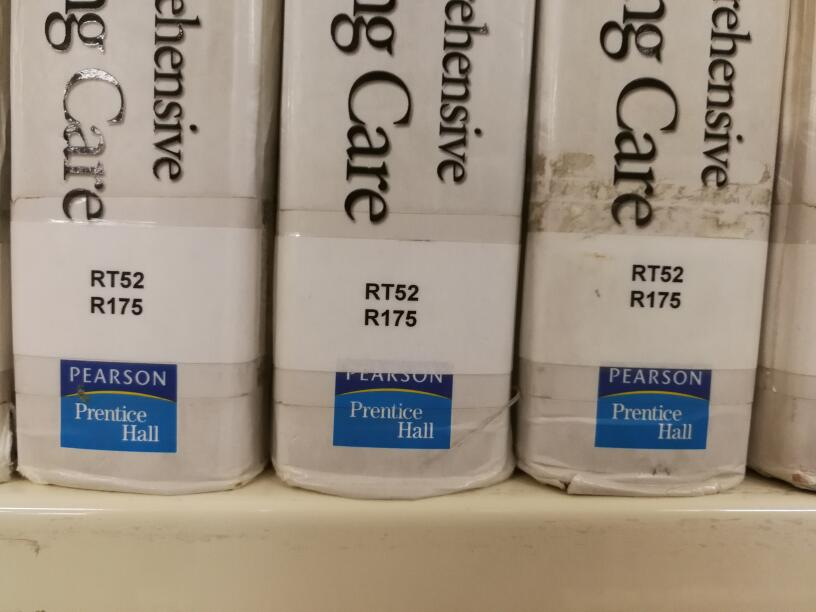booklabel: (361, 279, 421, 329), (88, 267, 147, 317), (627, 261, 686, 311)
